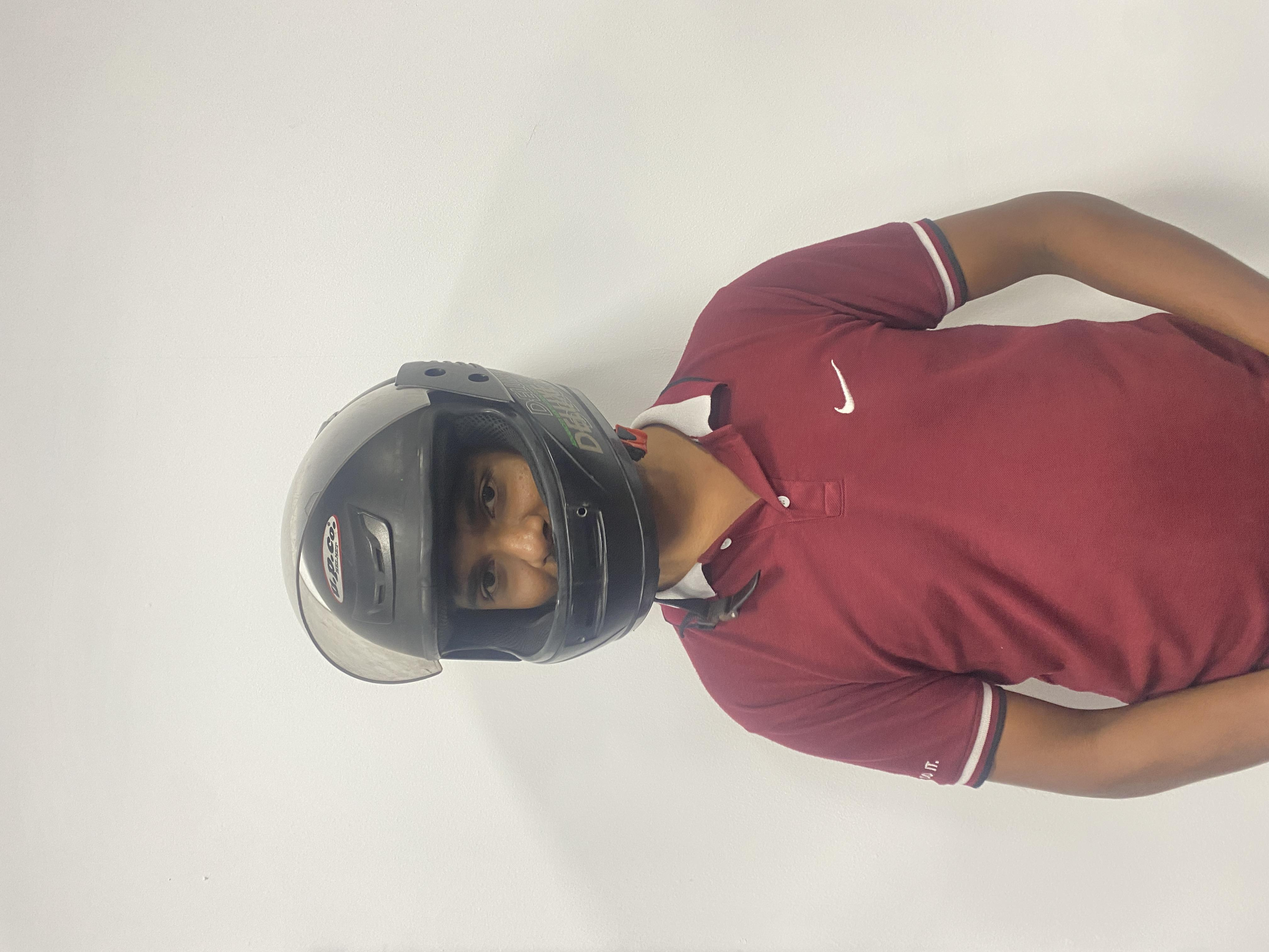helmet: (349, 206, 814, 491)
